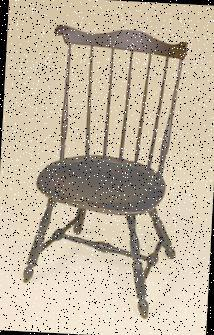Silla: (21, 24, 188, 322)
